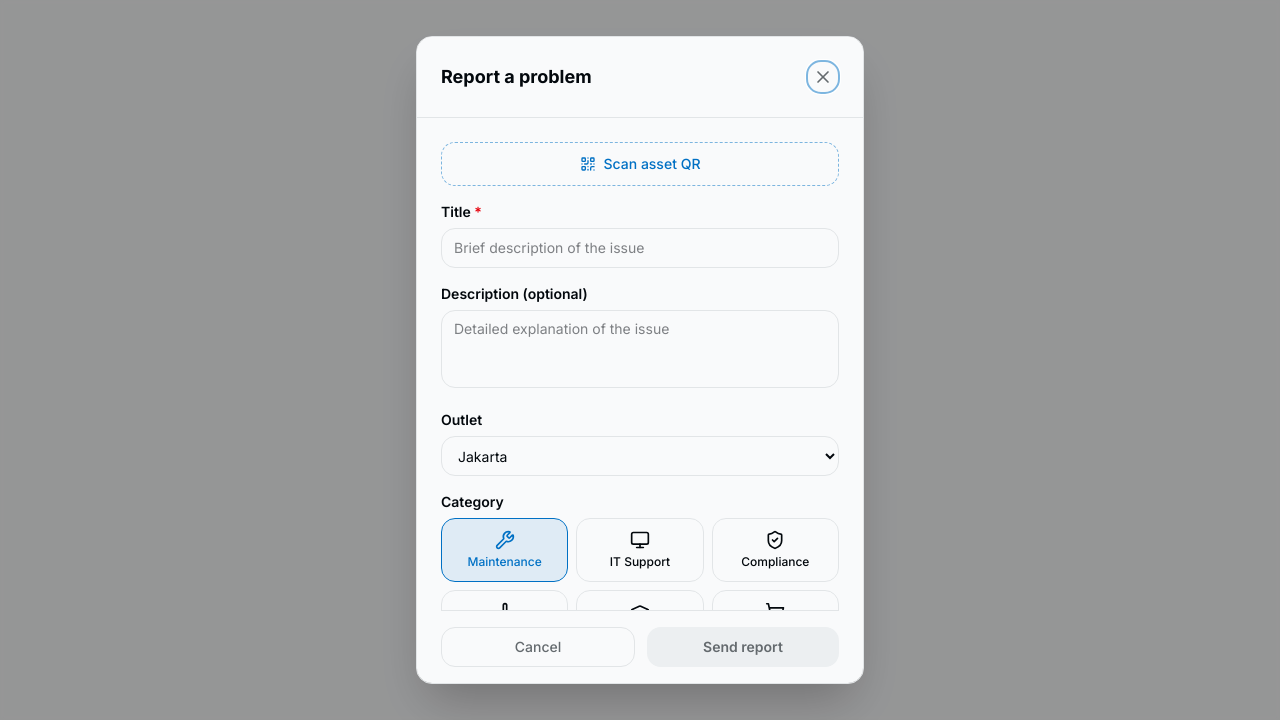
Test: quick report mode (Todo-Pilot §20) › a scanned asset QR fills the outlet and the description
Later steps or results of the test are not shown.
Click the button "Scan asset QR" at (640, 164), box [441,142,839,186]
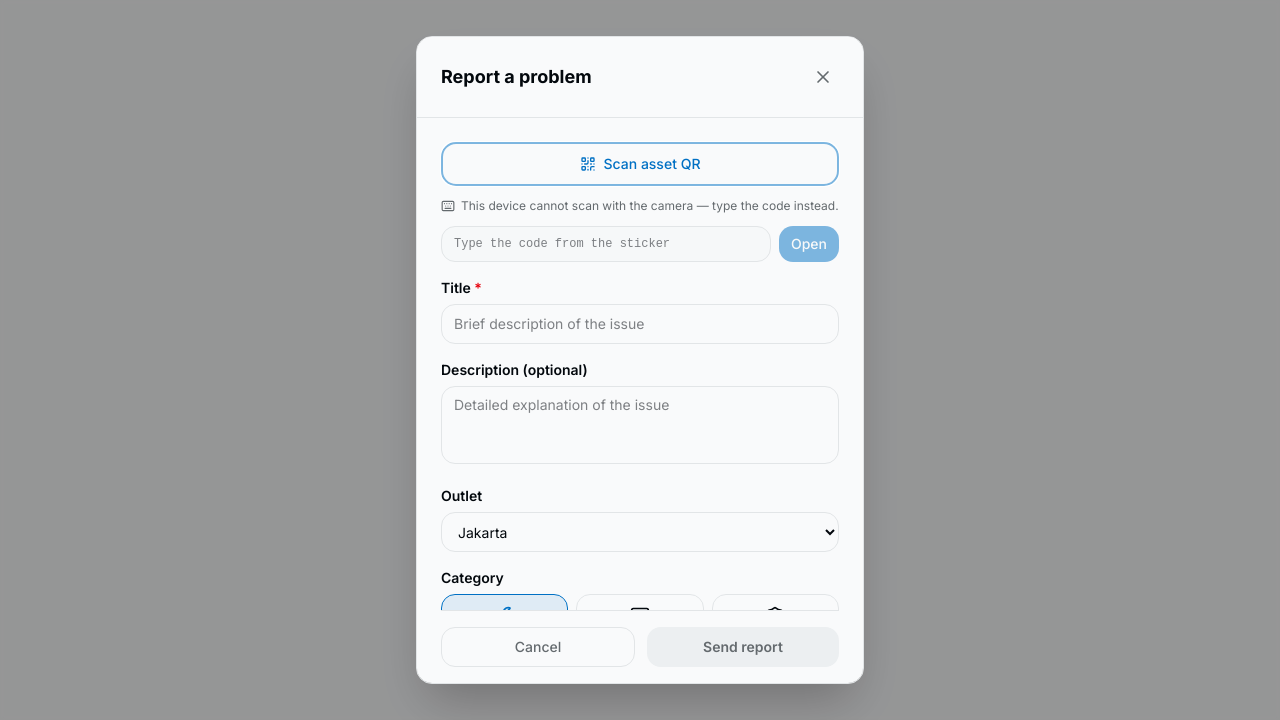
Type "tok-7" into the field with placeholder "Type the code from the sticker" at (606, 244), box [441,226,771,262]
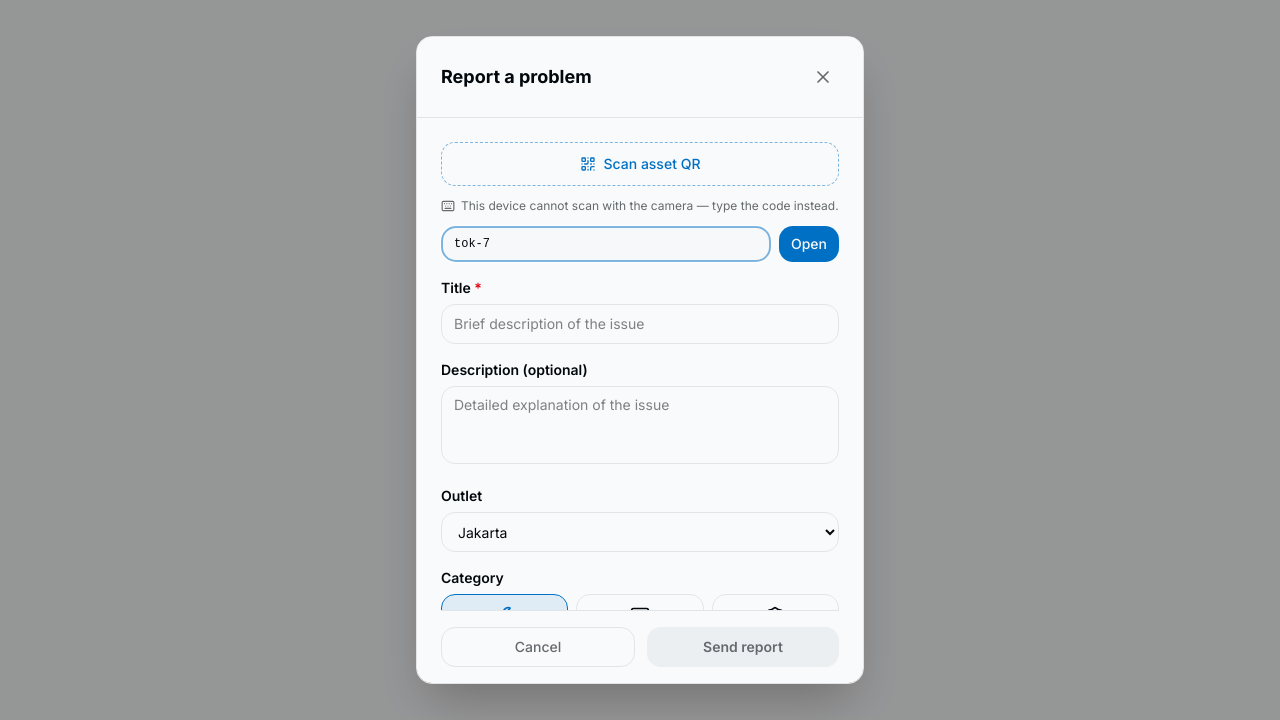
Click the button "Open" at (809, 244), box [779,226,839,262]
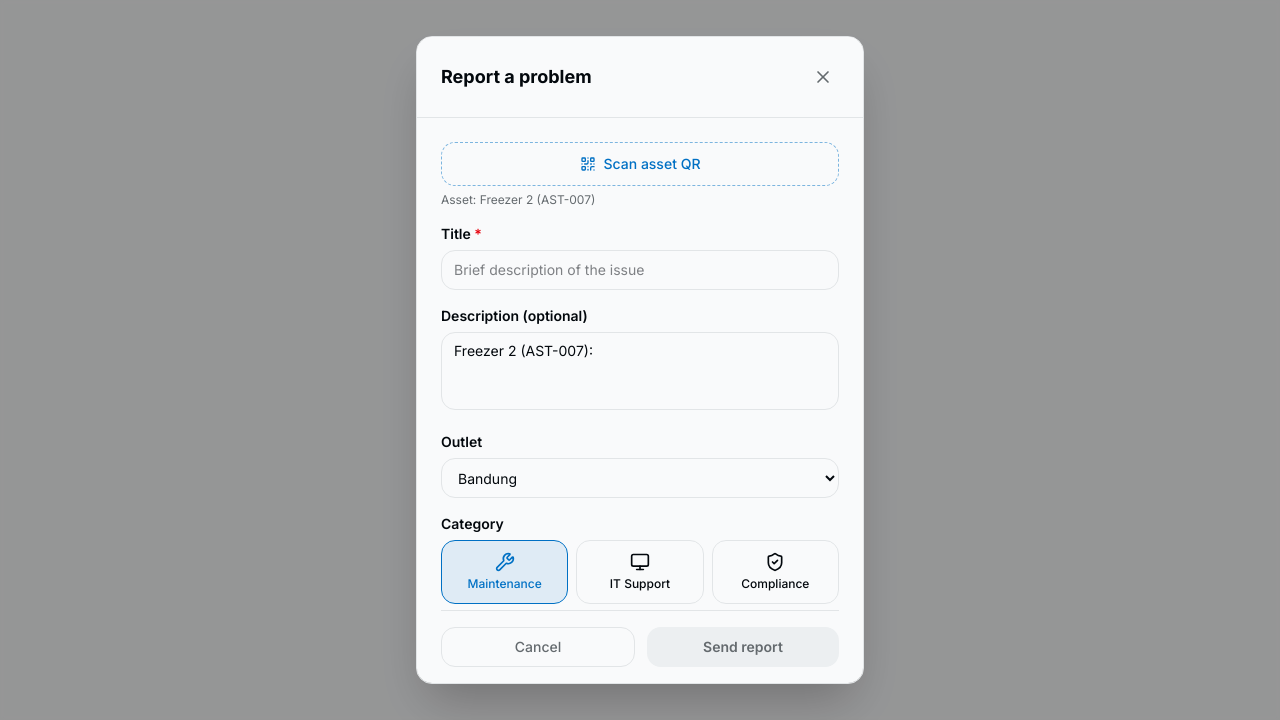
Check: the dropdown labelled "Outlet" shows "Bandung", box [441,458,839,498]
Check: the text box labelled "Description (optional)" holds "Freezer 2 (AST-007): ", box [441,332,839,410]
